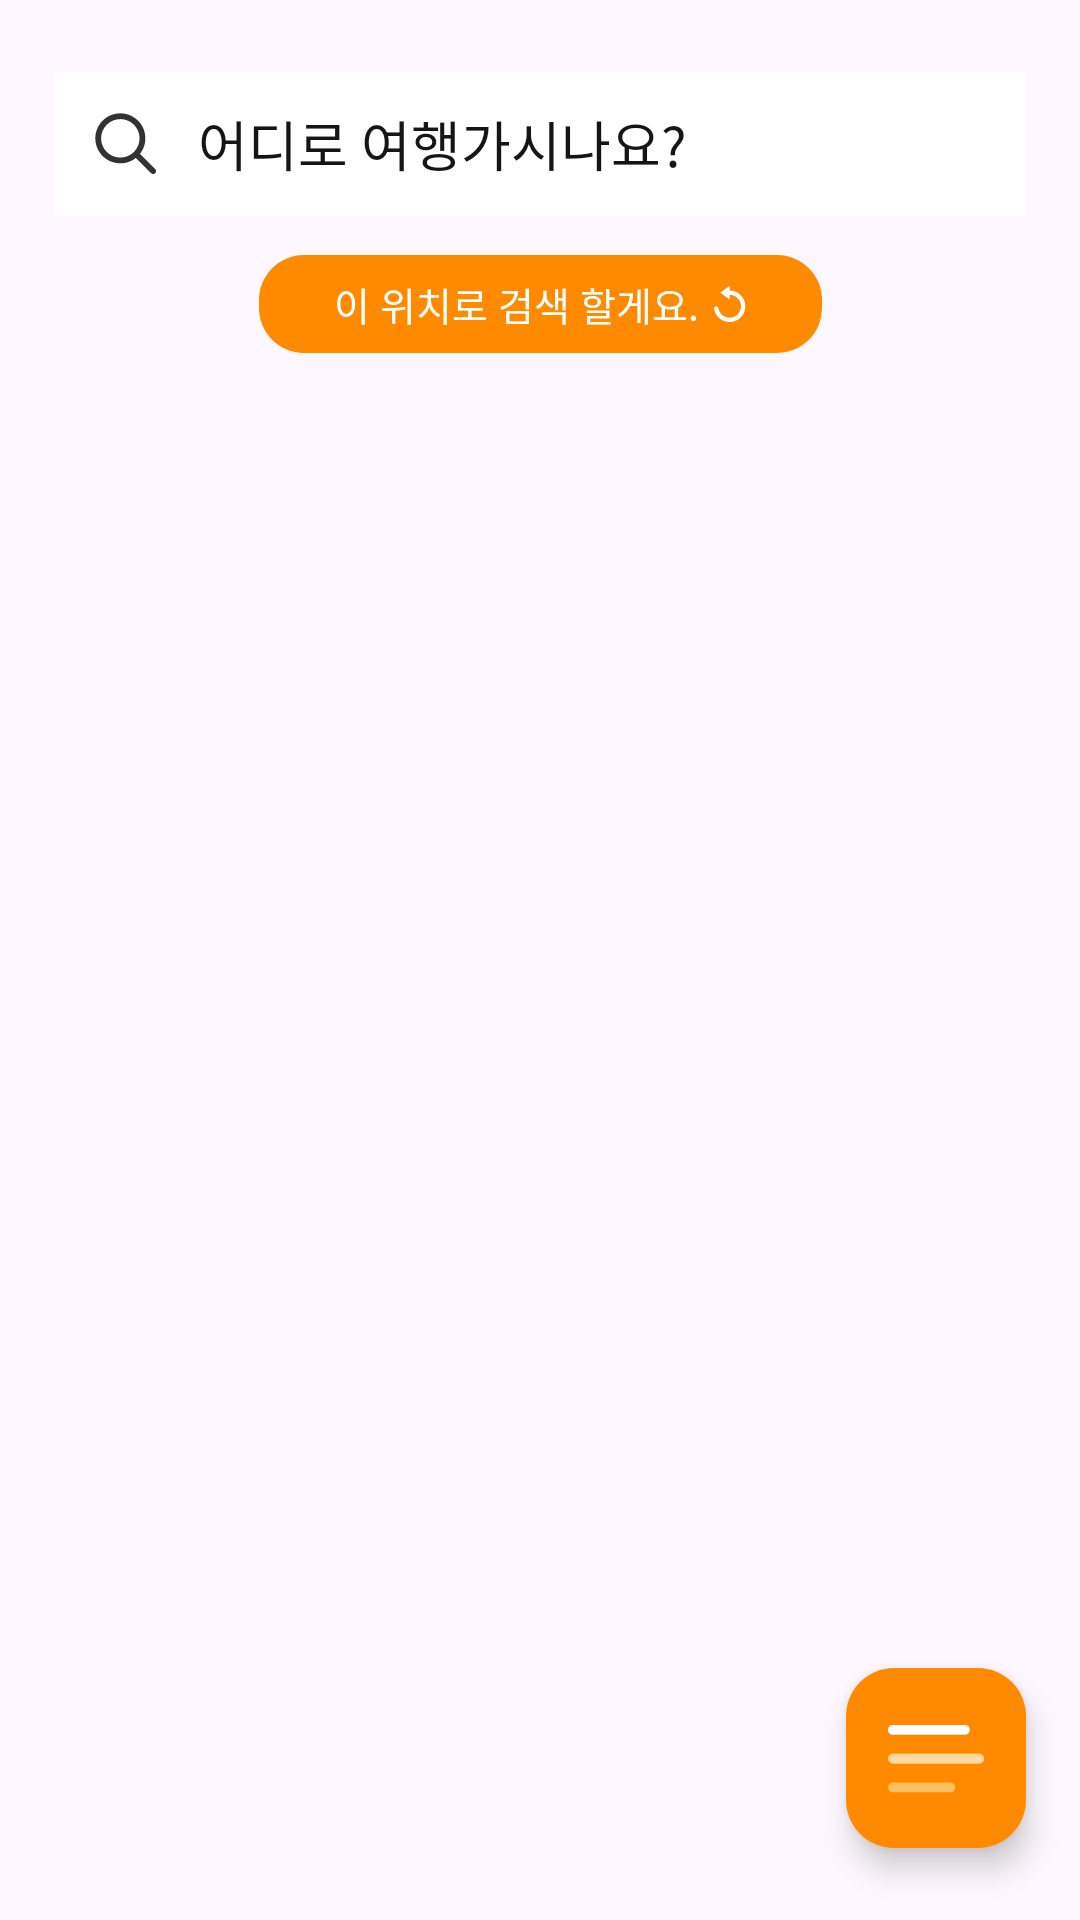

Screen size 1080px x 1920px. Icon name, then its center in pixels as [x,y]:
list cta: [936,1758]
search: [125,143]
